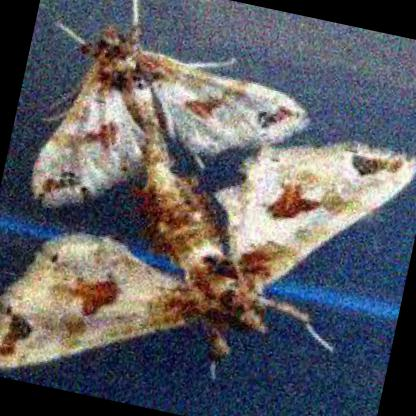leucinodes: (0, 146, 415, 369), (33, 23, 306, 209)
